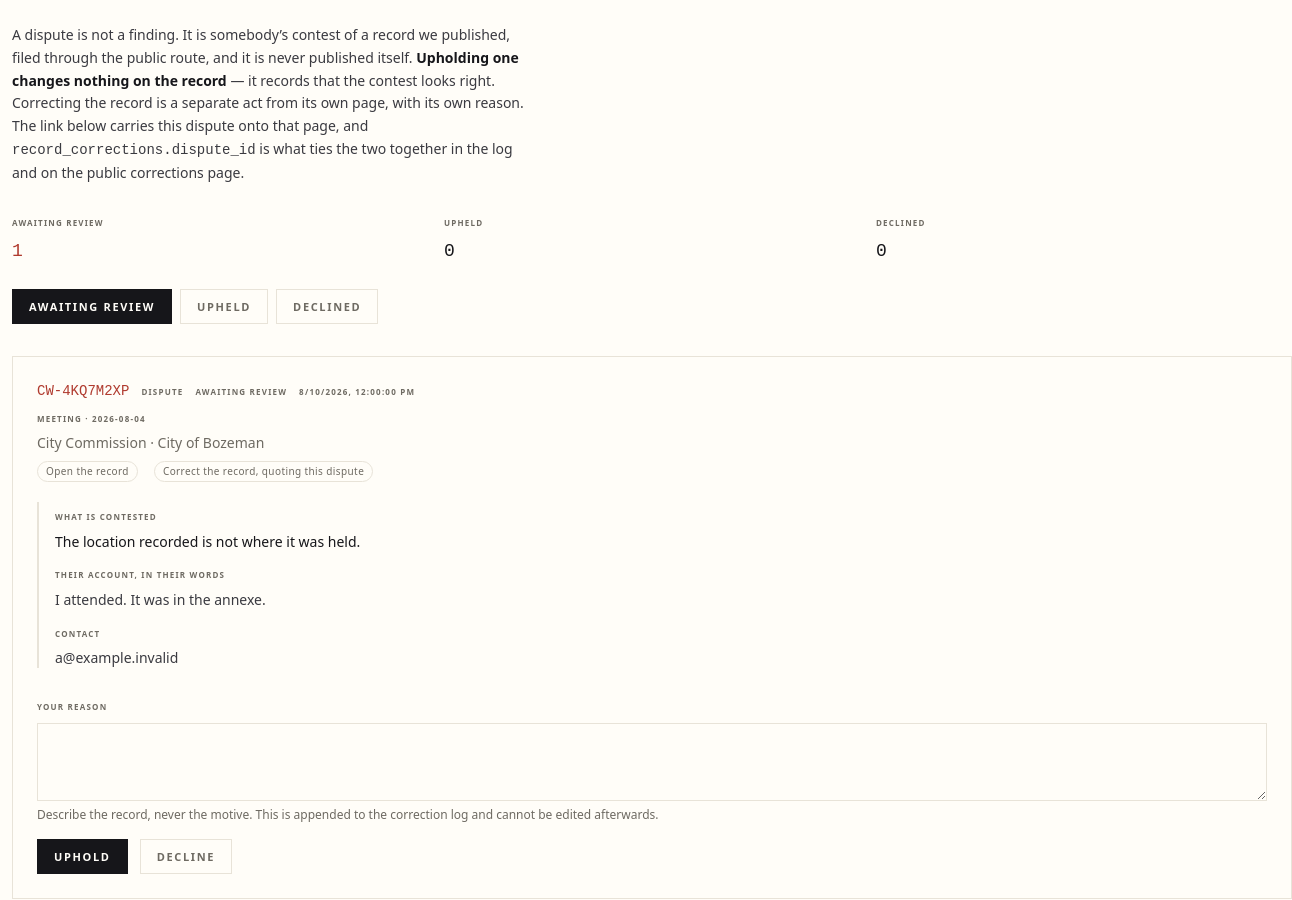
Test case: DisputeQueue › reproduces the API's refusal verbatim
Type "Acting in bad faith." into the text box labelled "Your reason" at (652, 762), box [37,723,1267,801]
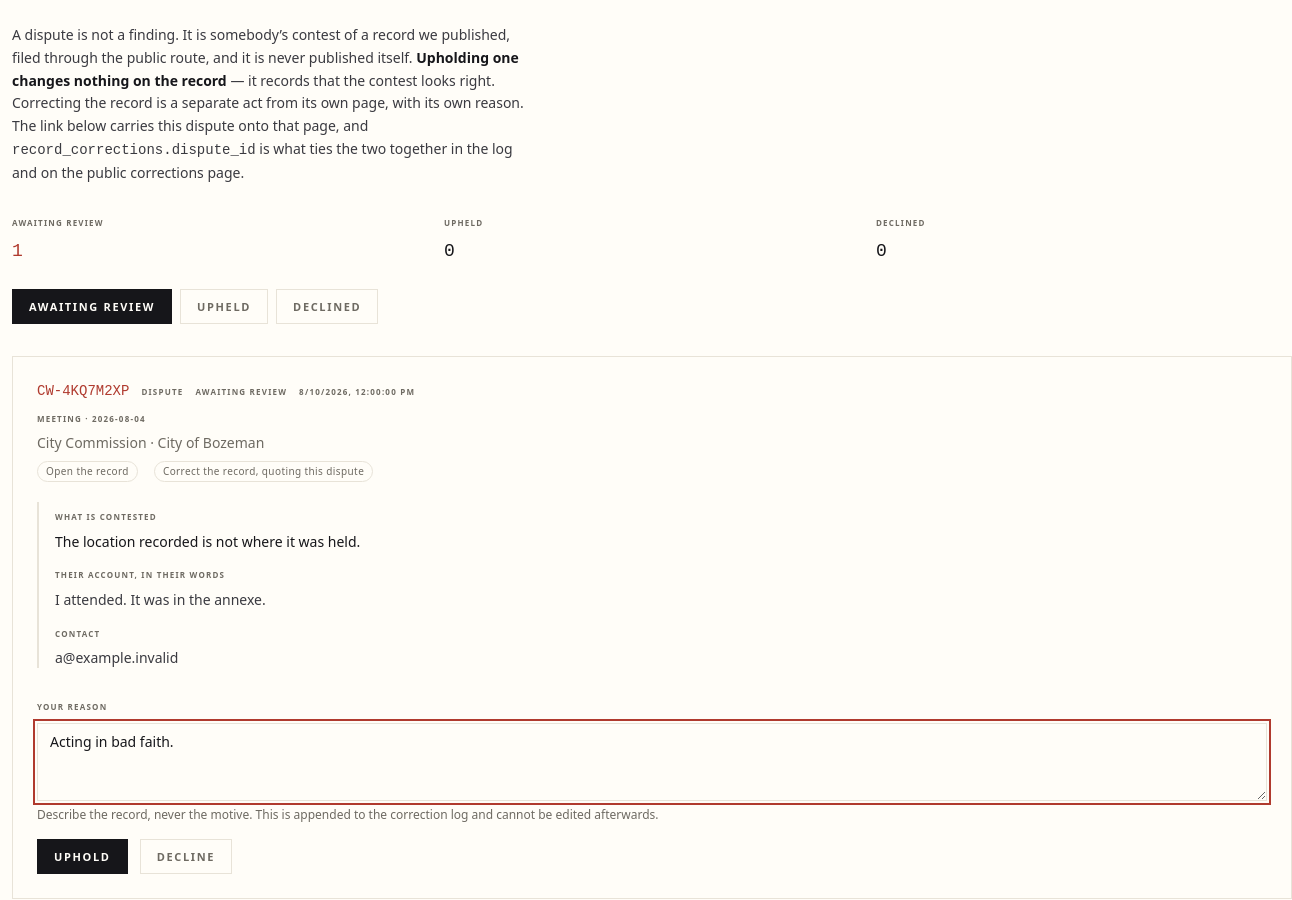
Click the button "Decline" at (186, 856), box [140,839,232,874]
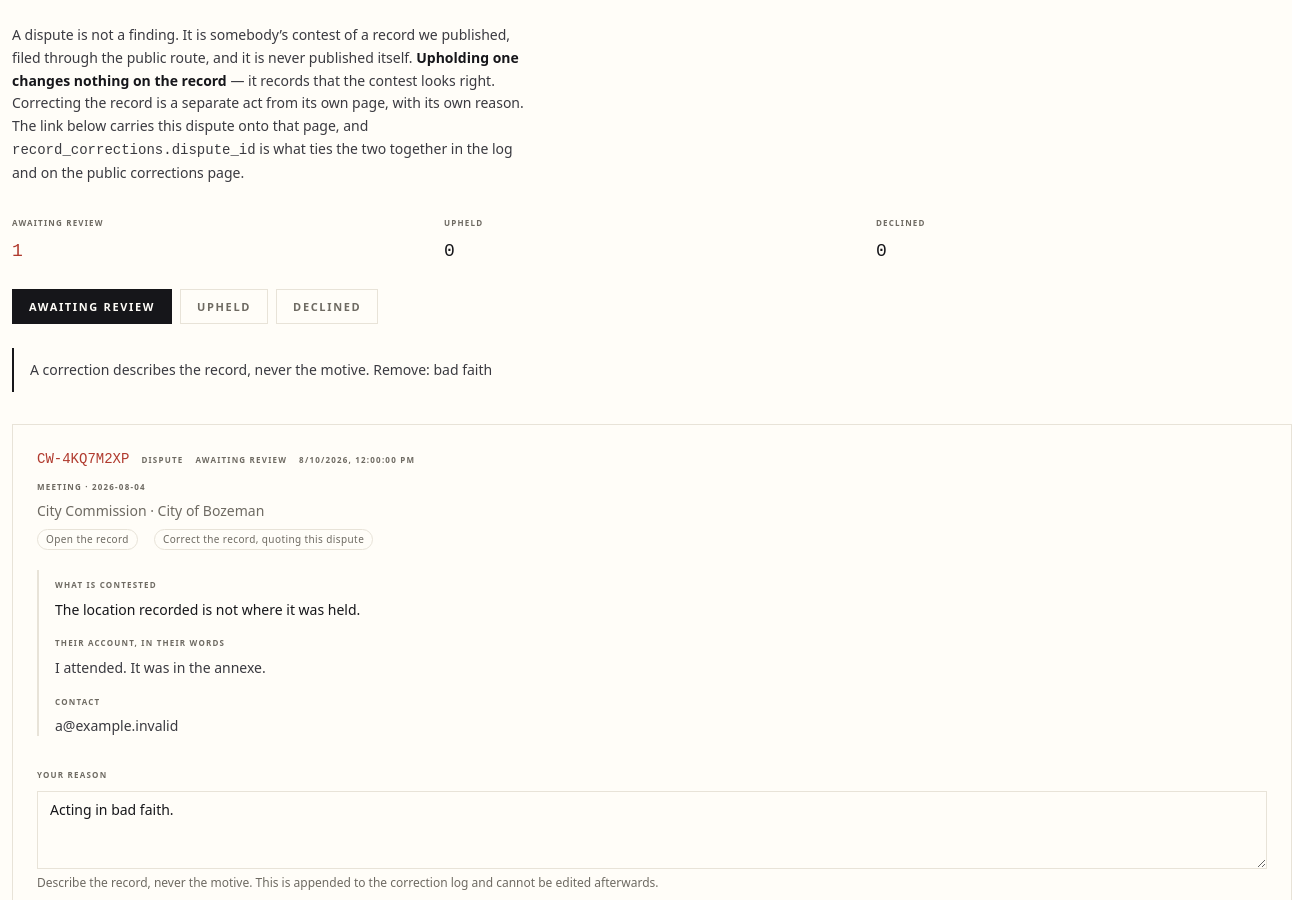
Check: the message shows "Remove: bad faith", box [30,360,492,379]
